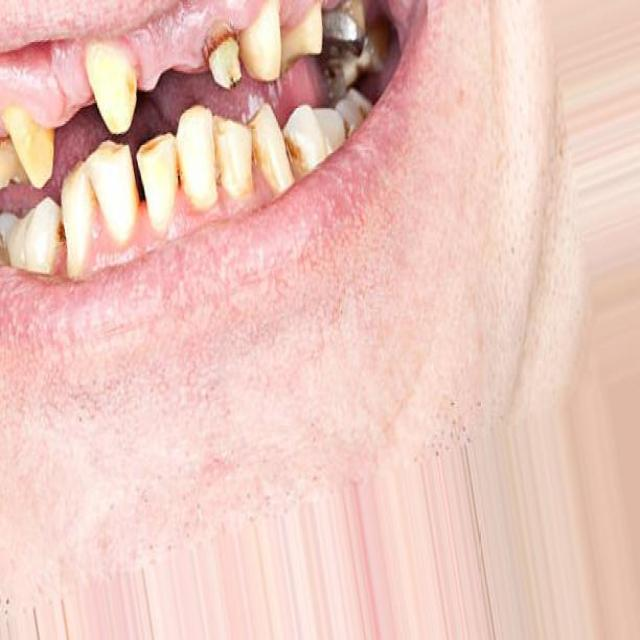caries: (201, 17, 248, 97), (46, 208, 74, 258), (137, 135, 166, 162)
